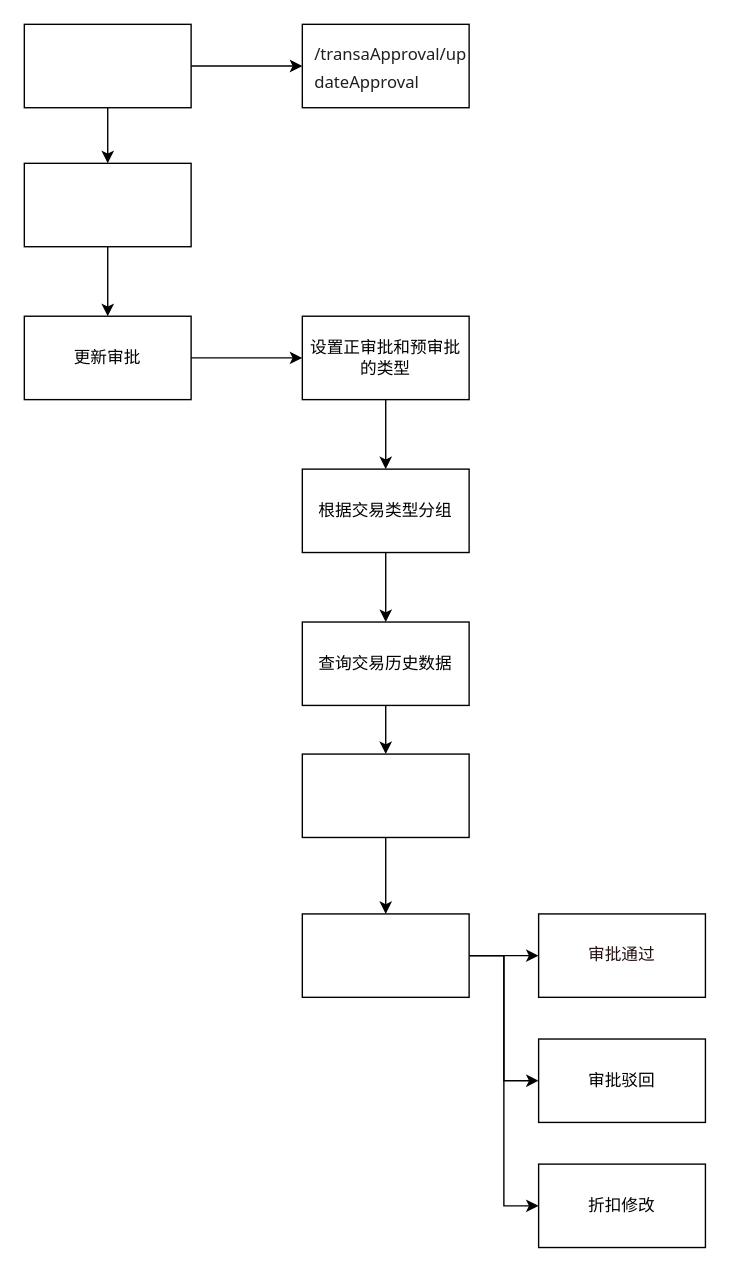
This 730x1272 diagram has some shape labels left out. The box of each missing label's shape, as (x1, y1, x2, y2) in pixels:
approvalDire: (301, 913, 469, 997)
排序: (23, 162, 191, 247)
查询当前人员所处的审批节点: (301, 753, 469, 837)
预审-信评通过: (23, 23, 191, 108)
